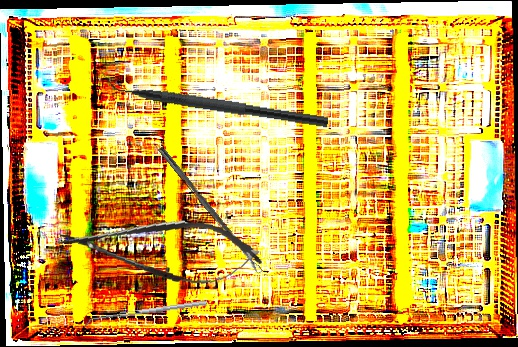Chopper: (97, 68, 331, 129)
Micro Scissor: (53, 207, 266, 292)
Spatula Surgical: (82, 300, 209, 327)
Surgical Spoon: (156, 146, 264, 275)
